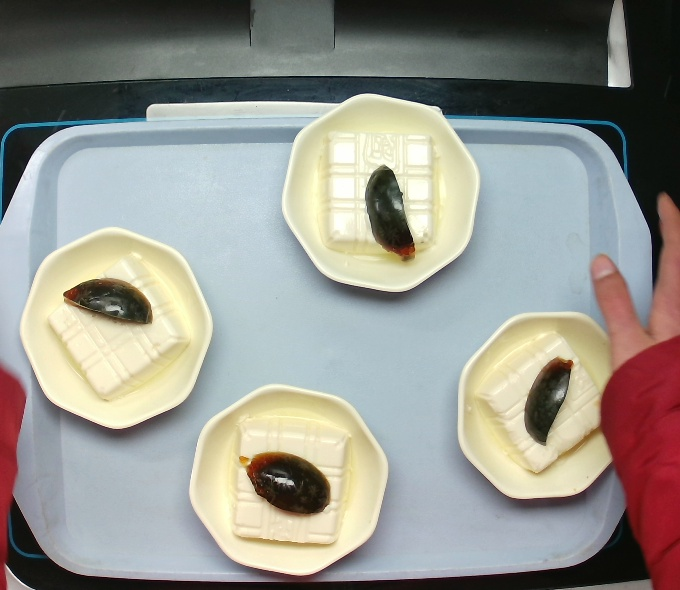wcq-PiDanDouFu: (47, 250, 200, 410), (312, 123, 447, 260), (475, 327, 598, 475), (229, 418, 361, 549)
